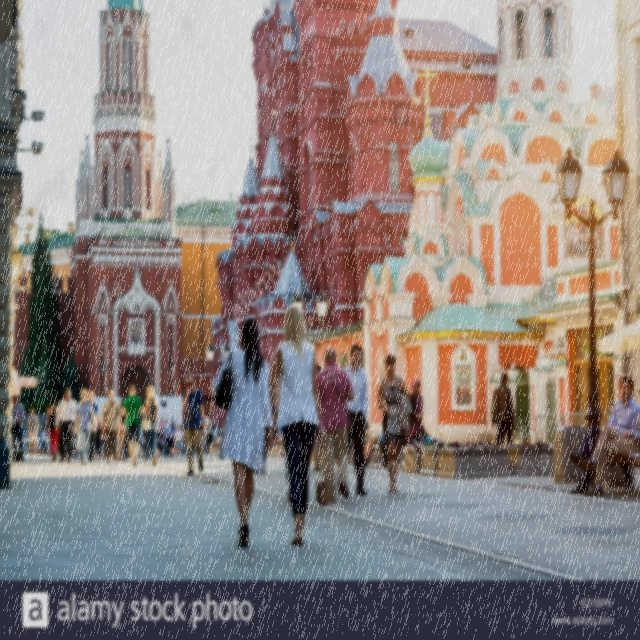pessoa: (267, 304, 329, 548), (212, 316, 274, 548), (568, 372, 640, 496), (313, 346, 357, 504), (578, 389, 640, 496), (376, 352, 414, 494), (336, 343, 369, 496), (182, 372, 204, 478), (490, 371, 515, 446), (54, 386, 78, 464), (120, 383, 142, 467), (100, 386, 122, 464), (140, 384, 160, 468), (74, 386, 95, 464), (567, 200, 599, 248), (406, 378, 426, 444), (312, 363, 322, 472), (87, 389, 101, 464), (46, 394, 60, 462), (9, 394, 25, 450), (362, 432, 386, 467), (117, 396, 128, 462), (455, 366, 473, 406), (256, 423, 270, 474), (26, 407, 40, 457), (282, 442, 292, 503), (202, 412, 215, 456), (161, 420, 175, 458), (138, 405, 147, 459), (95, 422, 105, 459), (173, 424, 184, 457), (70, 428, 80, 461), (130, 321, 143, 344), (168, 424, 176, 458), (156, 426, 164, 458), (200, 417, 206, 453), (122, 436, 130, 460), (180, 424, 186, 456), (41, 422, 50, 436), (159, 416, 164, 430), (171, 416, 176, 428)
